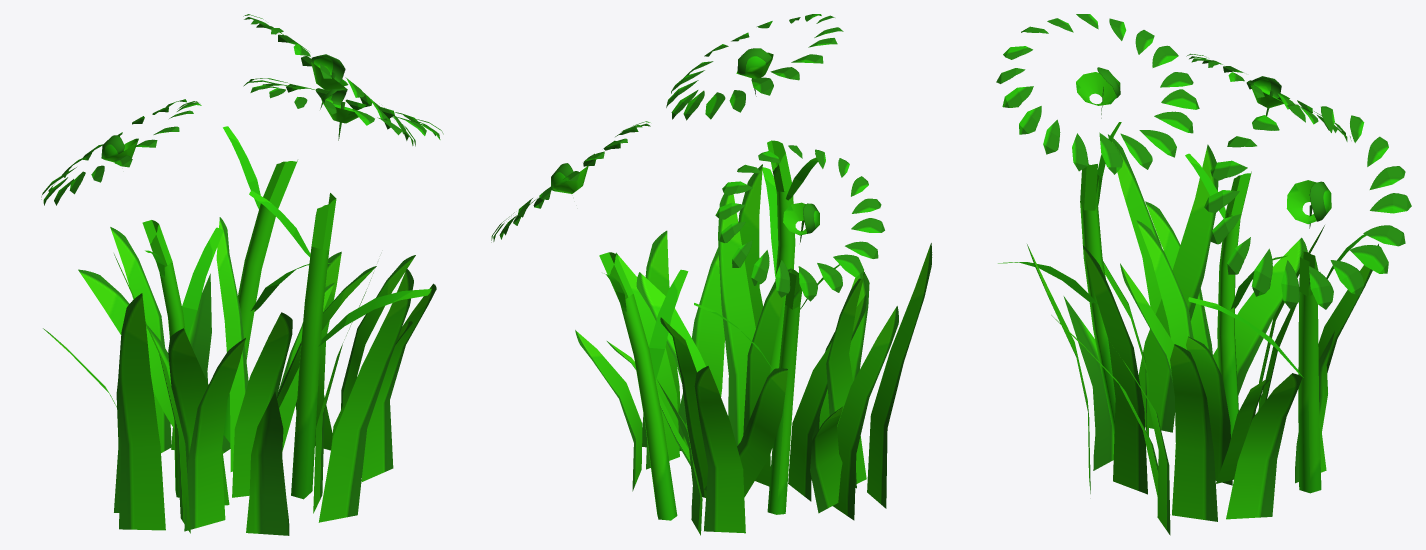
Rendered from Flower_01.FBX.
3 views of the same model, side by side, from view 1: azimuth 30°, elevation 25°; view 2: azimuth 150°, elevation 25°; view 3: azimuth 270°, elevation 25° (orthographic). The views are drawn at different scales.
Parts seen in each view (by area): view 1: Grass_003; view 2: Grass_003; view 3: Grass_003.
Part boxes in pixels (x1,y1,x2,y2): Grass_003: [41, 14, 443, 535]; Grass_003: [491, 14, 932, 535]; Grass_003: [996, 14, 1411, 535].
Bounding box in the file's own units: 15.89 × 16.17 × 18.44.
